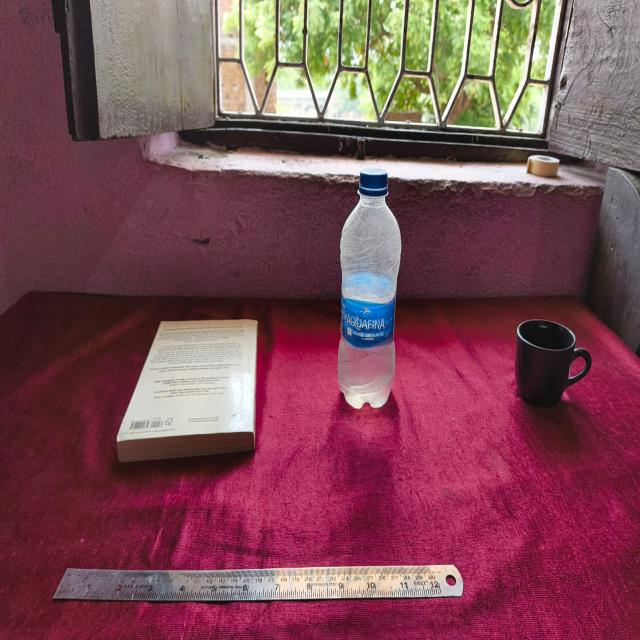Book: (115, 317, 260, 465)
Bottle: (338, 172, 402, 410)
Cup: (506, 320, 593, 408)
scale: (53, 566, 463, 597)
